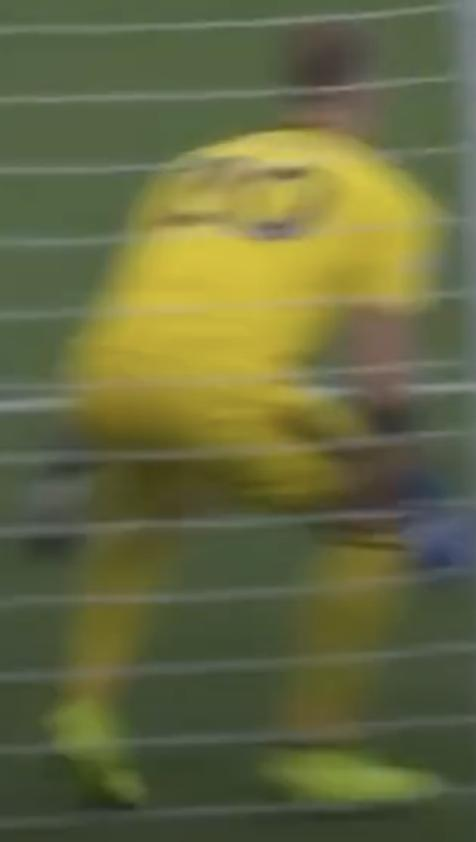goalkeeper: (20, 0, 476, 842)
